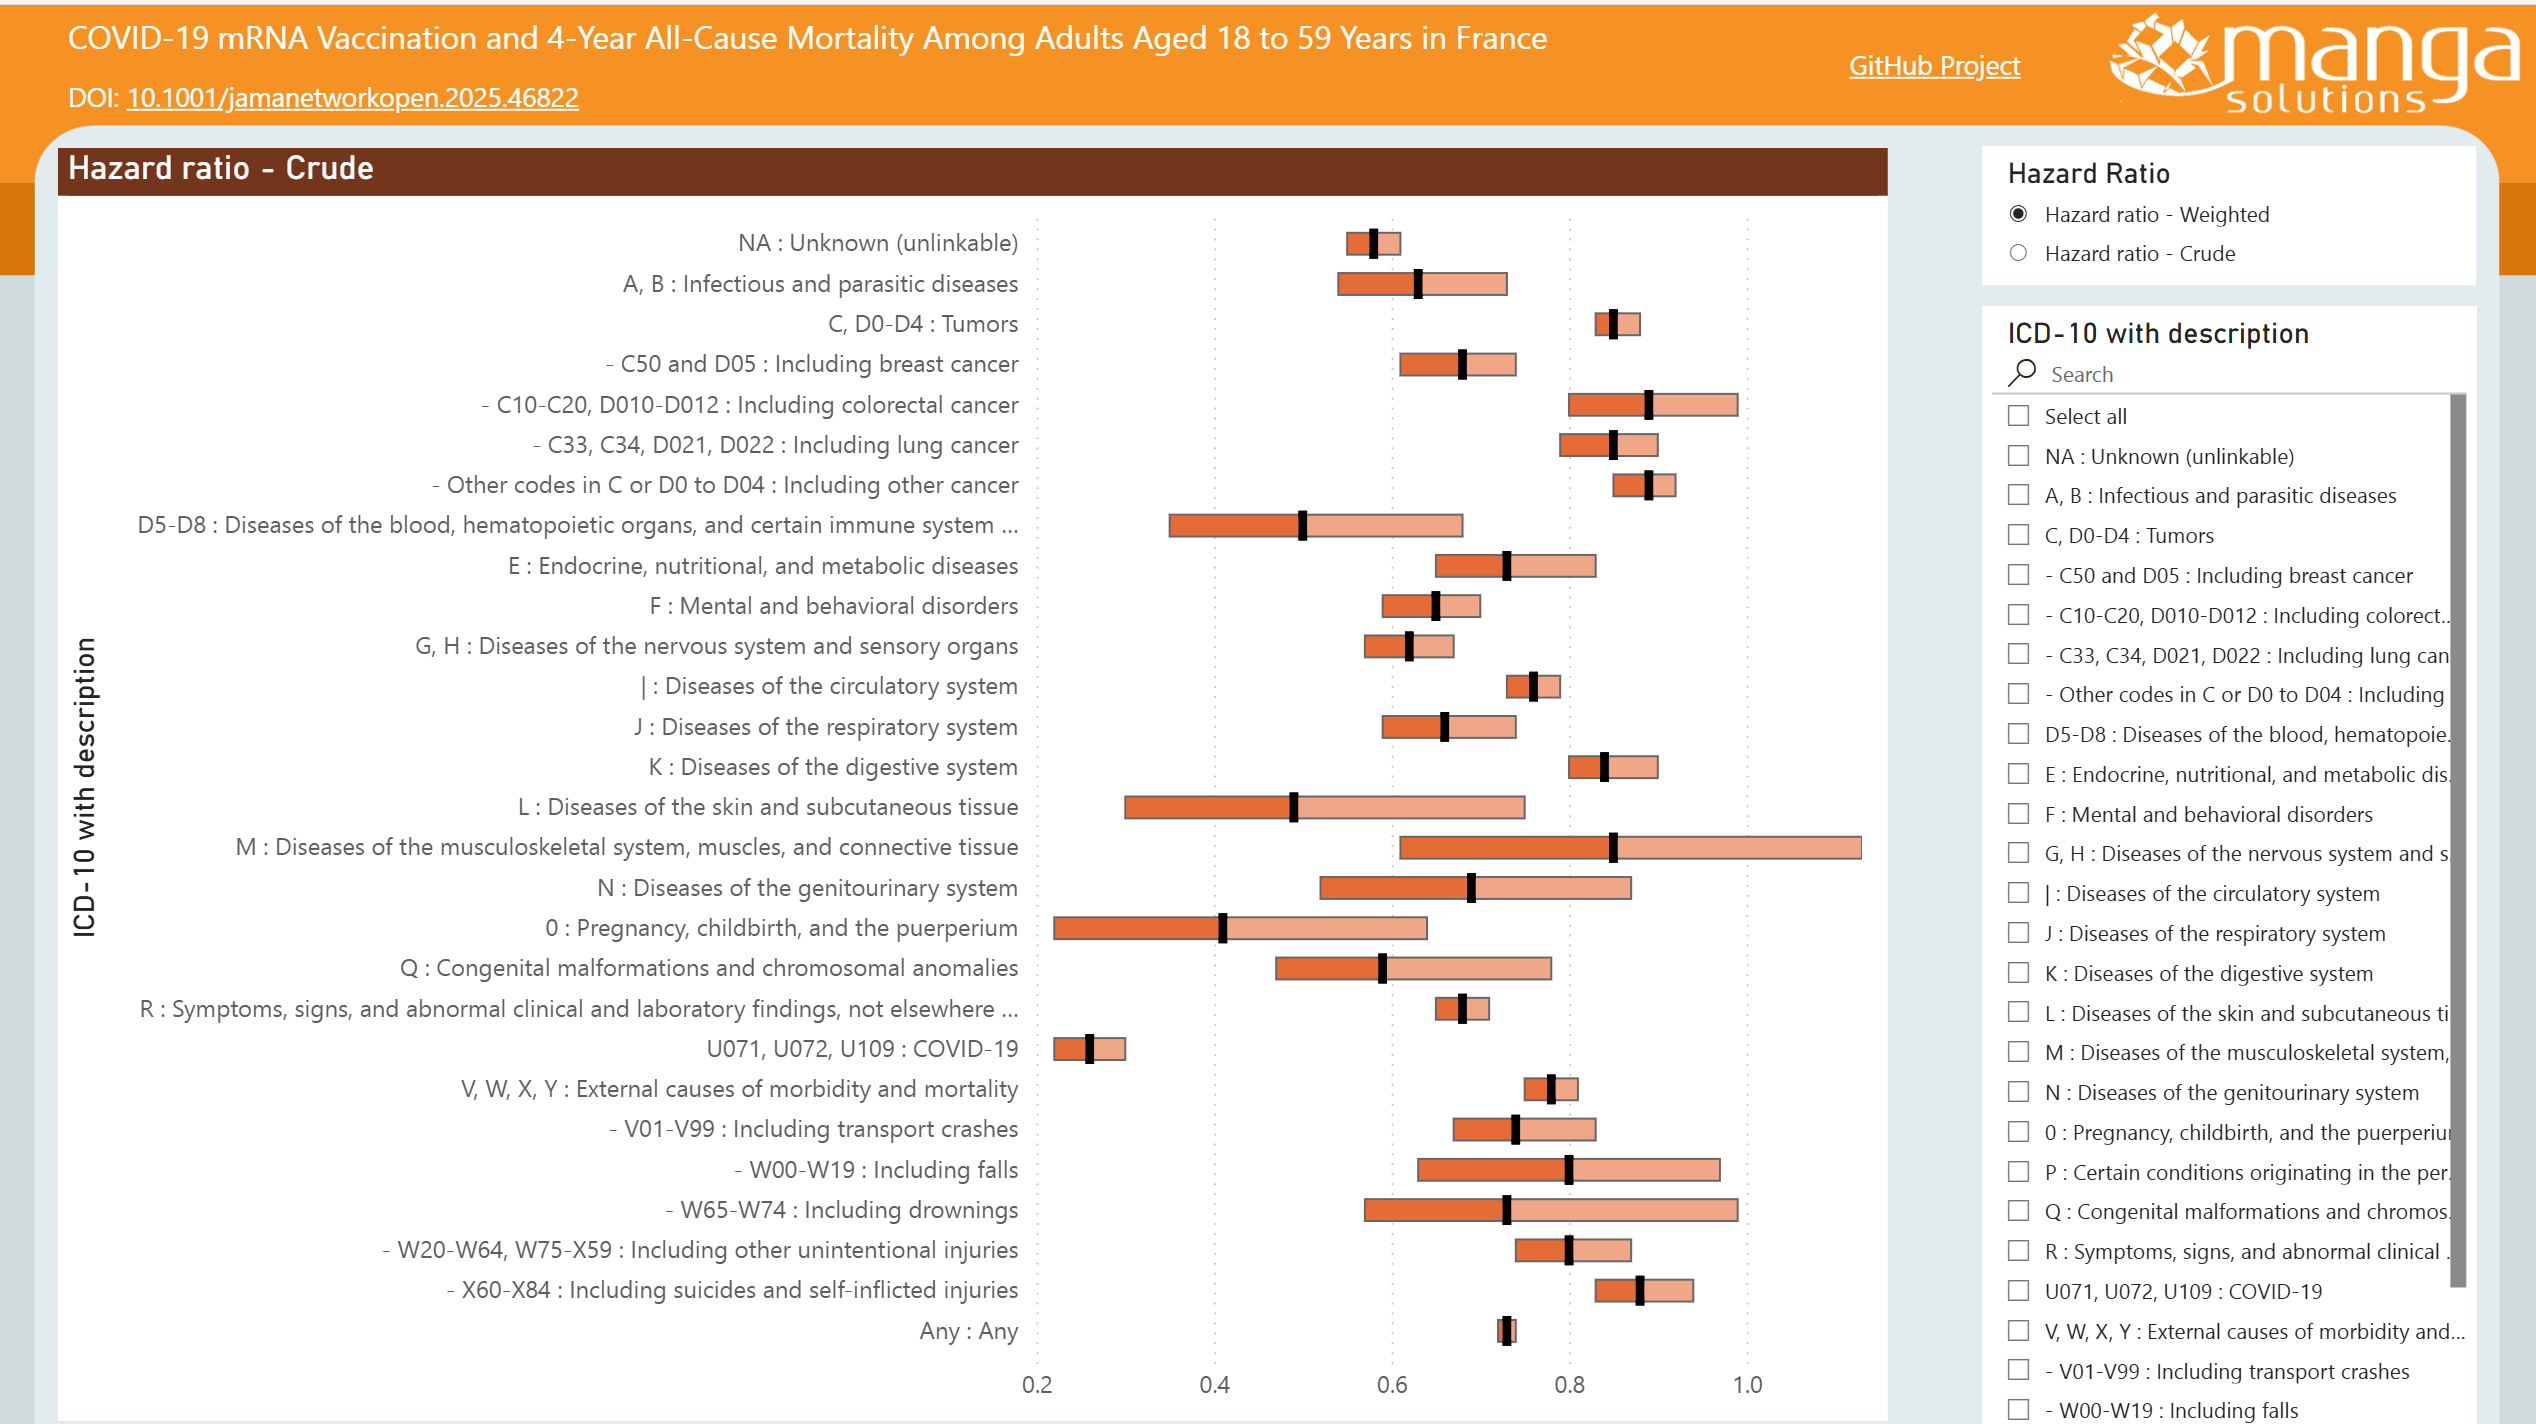

This screenshot's page, from the dashboard's own definition file:
{"tool":"powerbi","page":{"name":"Hazard Ratio chart","canvas":[1280,720],"ordinal":1},"visuals":[{"type":"textbox","box":[32,0,880,48],"z":0},{"type":"actionButton","box":[1056,0,224,64],"z":1000},{"type":"textbox","box":[896,16,128,32],"z":2000},{"type":"textbox","box":[32,32,304,32],"z":3000},{"type":"slicer","fields":{"Values":["Table 2 - Hazard ratios.Attribute"]},"box":[999.5,71.4,248.6,70.1],"z":5000},{"type":"slicer","fields":{"Values":["Table 2.ICD-10 with description"]},"box":[999.5,151.7,248.6,568.6],"z":6000},{"type":"clusteredBarChart","fields":{"Category":["Table 2.ICD-10 with description"],"Y":["Sum(Table 2 - Hazard ratios.Low CI)","Sum(Table 2 - Hazard ratios.High CI)","Sum(Table 2 - Hazard ratios.Median)"]},"box":[32,72,920,640],"z":7000}]}

Visuals, with their boxes in screenshot pixels (x1, y1, x2, y2), scaled from the page's 1280x720 canvas onto the 2536x1424 screenshot:
textbox: Rect(63, 0, 1807, 95)
actionButton: Rect(2092, 0, 2535, 127)
textbox: Rect(1775, 32, 2029, 95)
textbox: Rect(63, 63, 666, 127)
slicer - Table 2 - Hazard ratios.Attribute: Rect(1980, 141, 2473, 280)
slicer - Table 2.ICD-10 with description: Rect(1980, 300, 2473, 1423)
clusteredBarChart - Table 2.ICD-10 with description x Sum(Table 2 - Hazard ratios.Low CI): Rect(63, 142, 1886, 1408)
